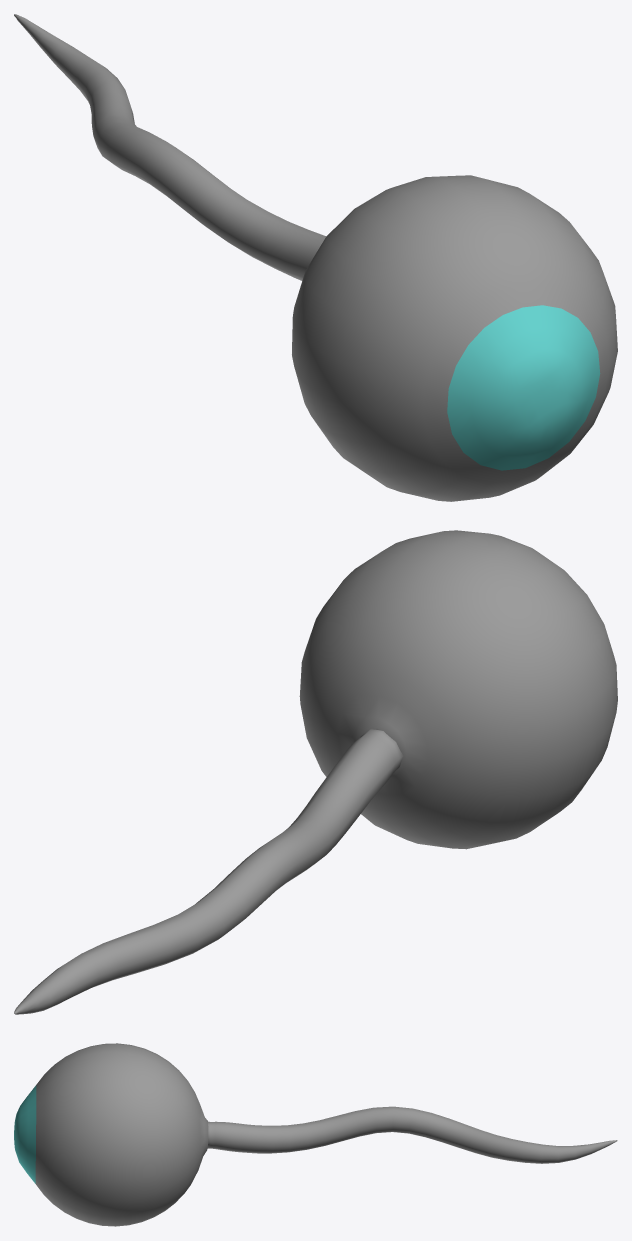
File: SM_Eye.FBX
3 renders of one model, top to bottom at view 1: azimuth 30°, elevation 25°; view 2: azimuth 150°, elevation 25°; view 3: azimuth 270°, elevation 25°, orthographic. The views are drawn at different scales.
Visible parts, largest first — view 1: Eye_main, Eye_element_1; view 2: Eye_main, Eye_element_1; view 3: Eye_main, Eye_element_1.
Boxes of the visible parts, x1=… form: Eye_main: x1=292, y1=175, x2=617, y2=501; Eye_element_1: x1=14, y1=14, x2=326, y2=280; Eye_main: x1=299, y1=530, x2=617, y2=849; Eye_element_1: x1=14, y1=729, x2=403, y2=1014; Eye_main: x1=14, y1=1043, x2=208, y2=1226; Eye_element_1: x1=207, y1=1106, x2=617, y2=1163.
Size of the model in its own units: 2.27 by 7.49 by 2.28.
